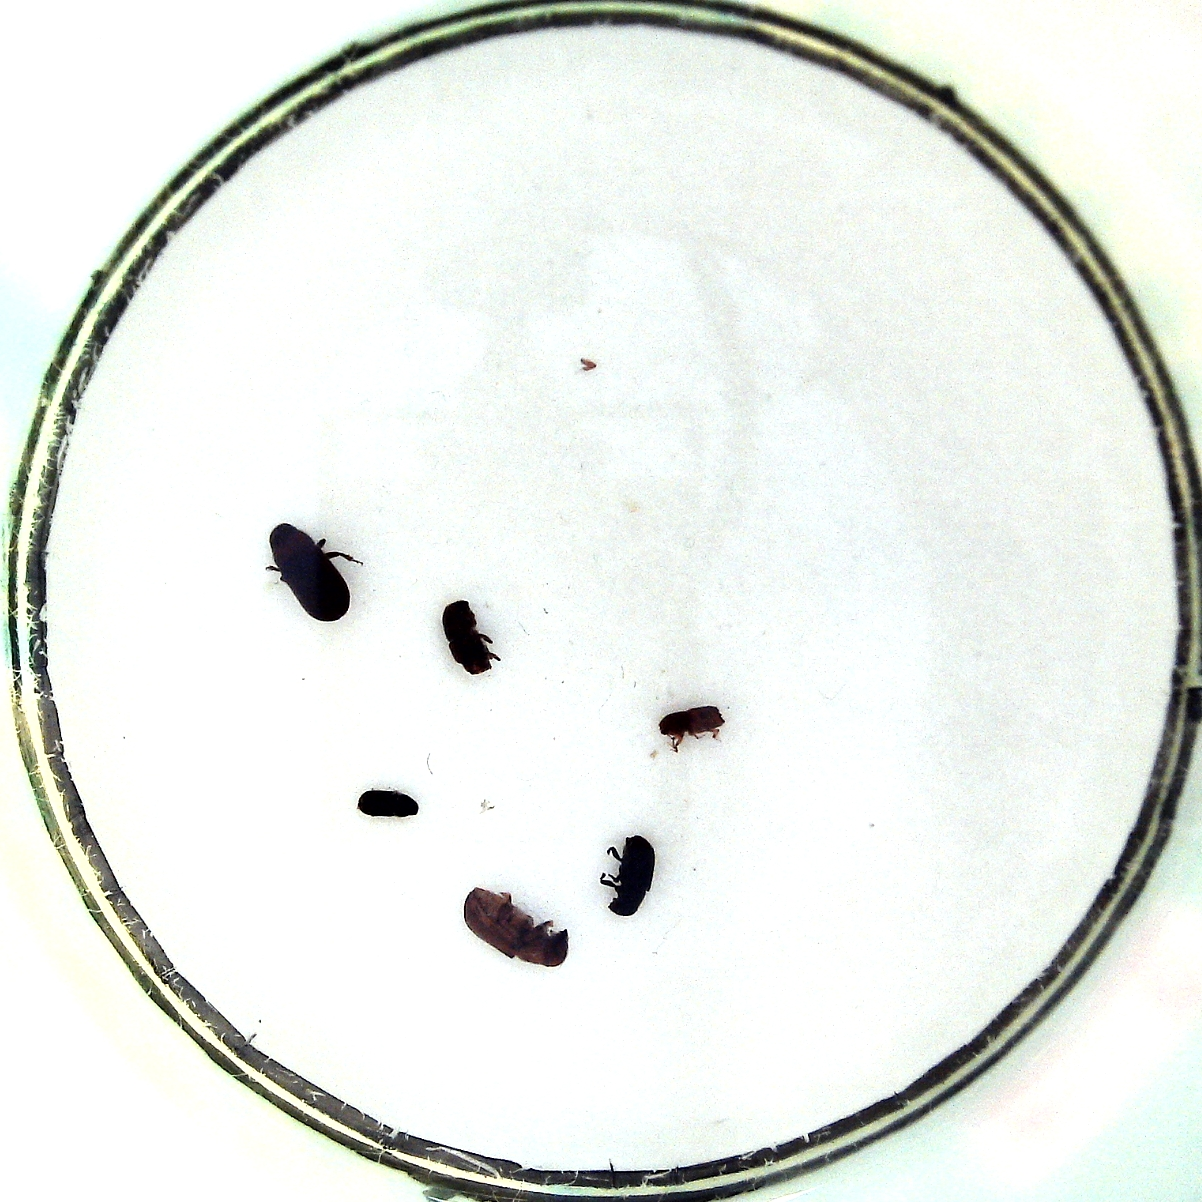Leconte: (264, 518, 356, 622), (461, 882, 571, 968)
Linnaeus: (438, 597, 498, 679)
acuminatus: (658, 703, 726, 748)
armandi: (602, 826, 656, 915)
coleoptera: (351, 787, 420, 823)
